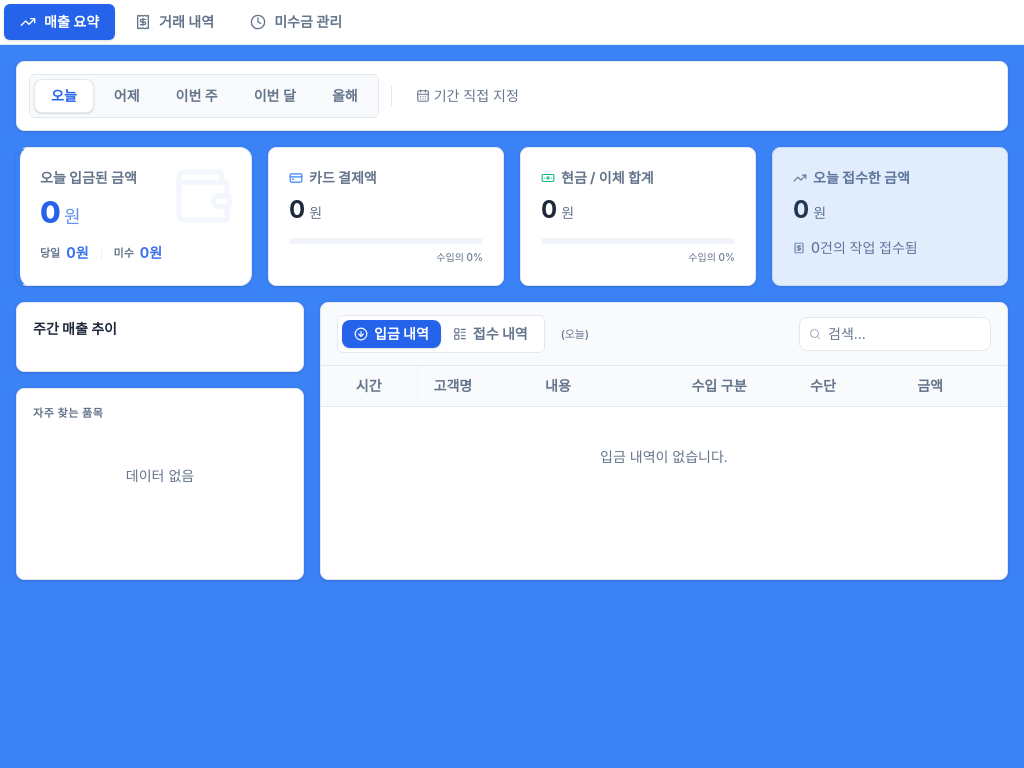
Test: SalesPage › '거래 내역' 탭 클릭 시 해당 콘텐츠가 표시된다
The image size is (1024, 768).
What coordinates should you click on to do the following:
click the button "거래 내역"
I would click on:
 (175, 22)
Its box is [119,4,230,40].
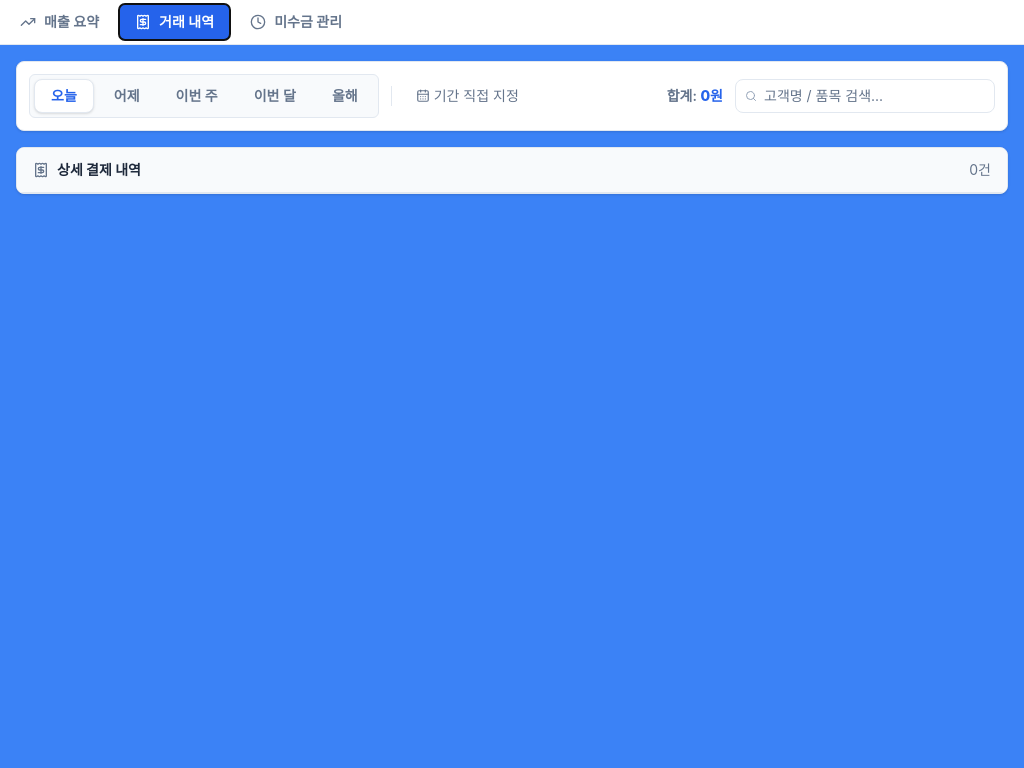
Check: the heading "상세 결제 내역" is shown, box [57,160,141,180]
